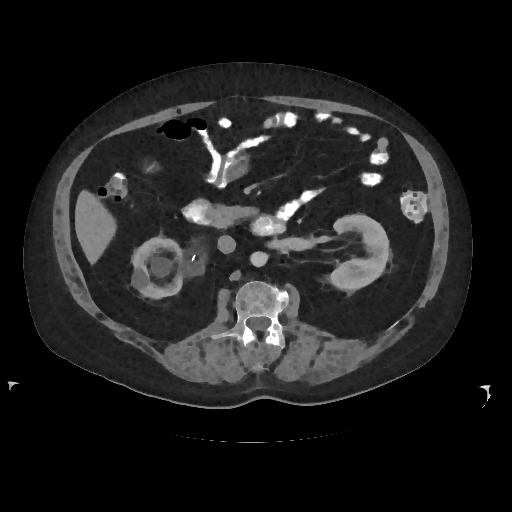Lesion: (129, 264, 149, 292)
